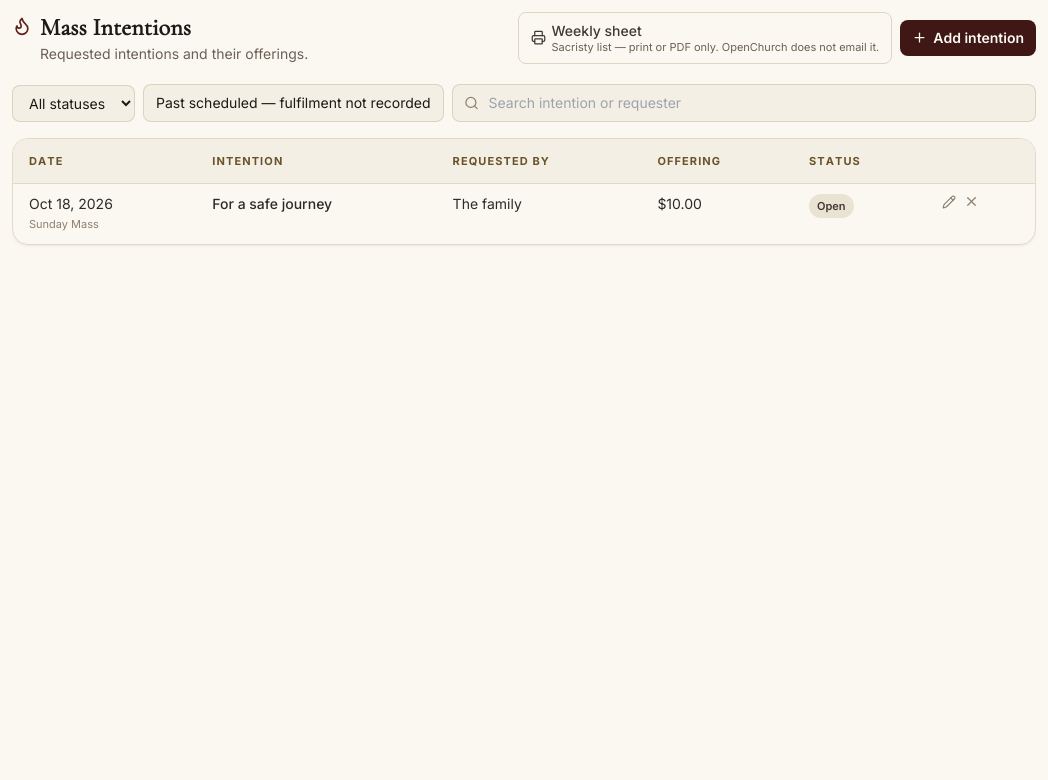
Test: SP-063 fulfilment confirmation › changing status to cancelled is an update, not a fulfilment
The image size is (1048, 780).
Click the button named "Edit intention" at (949, 202), box [942,194,956,208]
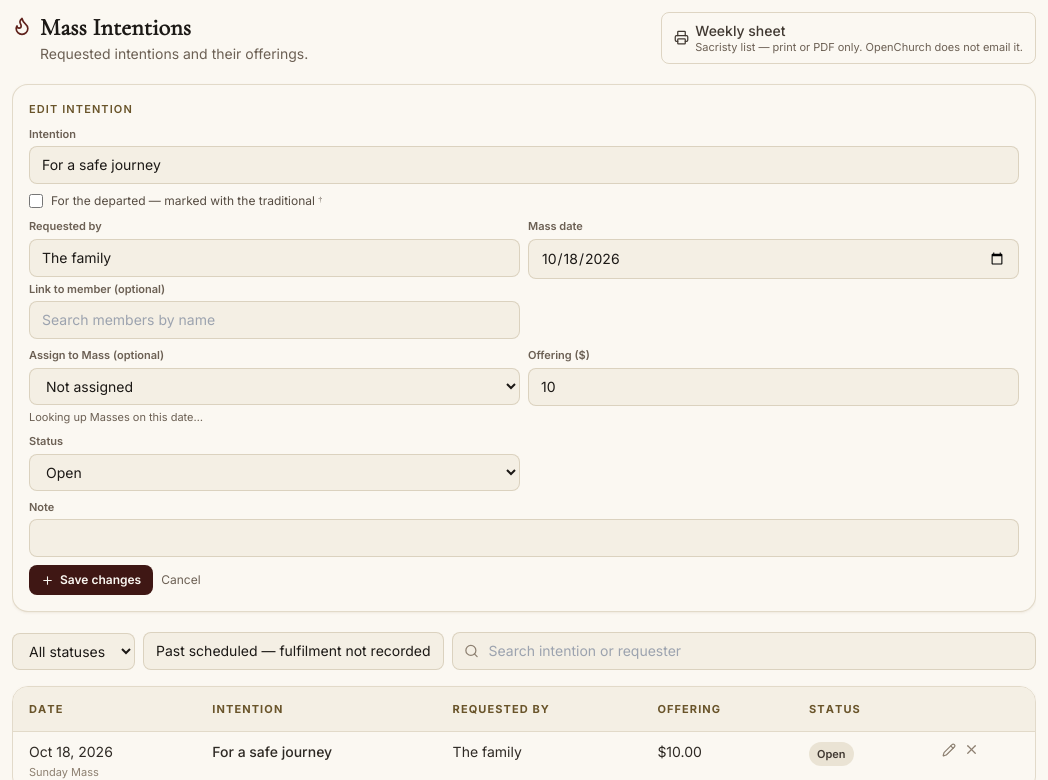
Select "Cancelled" in the dropdown labelled "Status" at (274, 472), box [29,454,520,490]
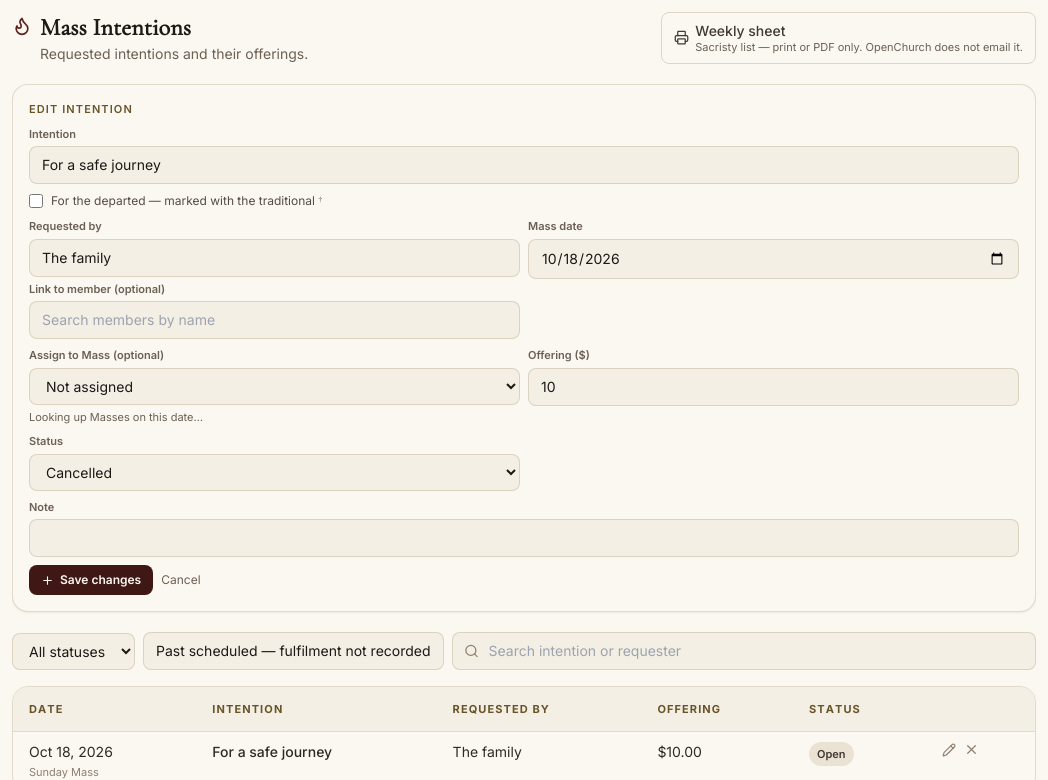
Click the button "Save changes" at (91, 580), box [29,565,153,595]
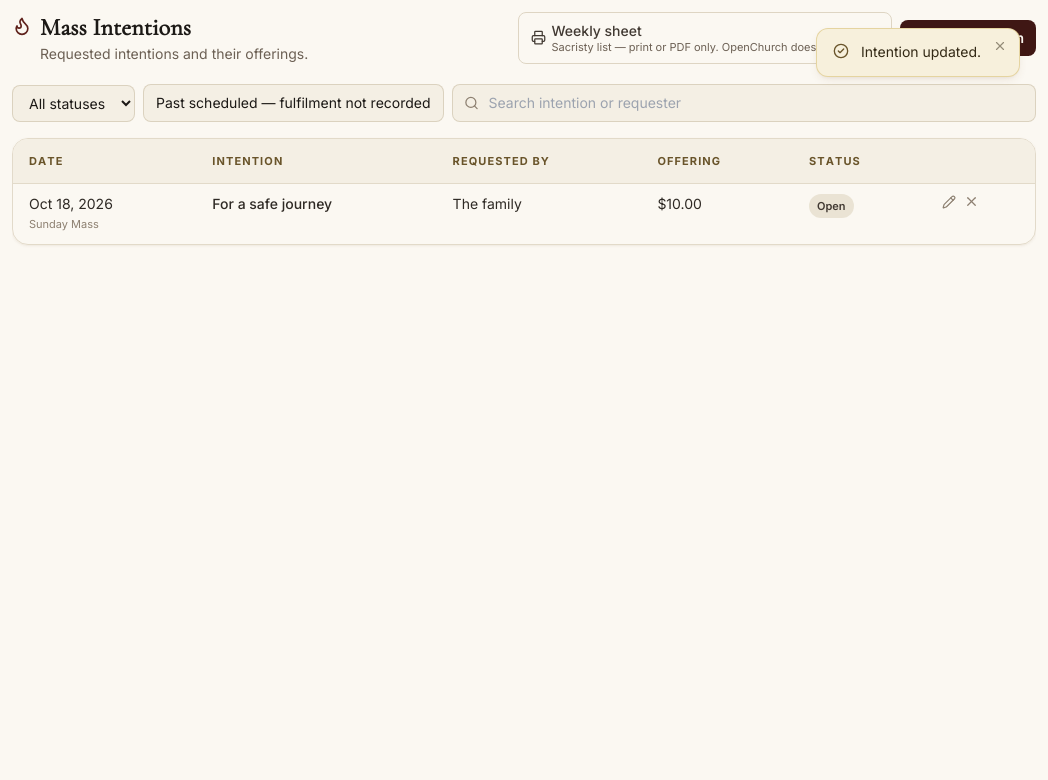
expect the text "Intention updated." is shown: met, box [861,41,981,64]
